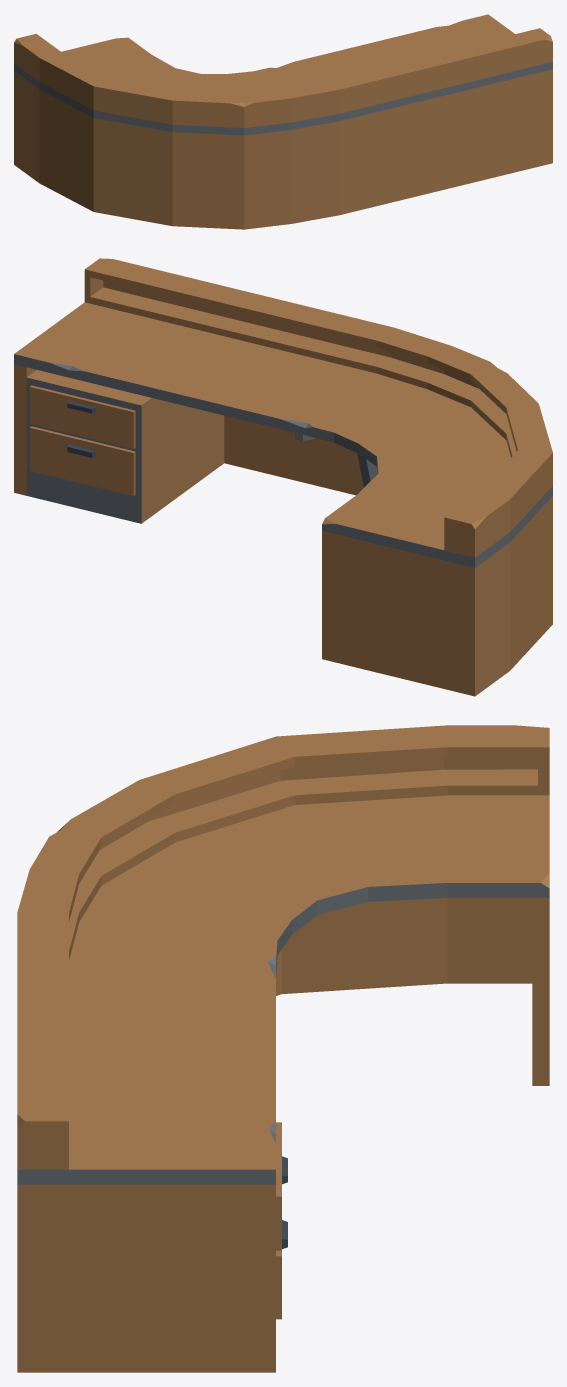
File: Desk_Curve.FBX
3 views of the same model, one above another, from view 1: azimuth 30°, elevation 25°; view 2: azimuth 150°, elevation 25°; view 3: azimuth 270°, elevation 25° (orthographic). The views are drawn at different scales.
Visible parts, largest first — view 1: Desk_Curve; view 2: Desk_Curve; view 3: Desk_Curve.
Boxes of the visible parts, left/top/right/bottom form: Desk_Curve: left=14, top=14, right=552, bottom=229; Desk_Curve: left=14, top=258, right=552, bottom=696; Desk_Curve: left=17, top=725, right=549, bottom=1372.
Size of the model in its own units: 314 by 92.81 by 178.
